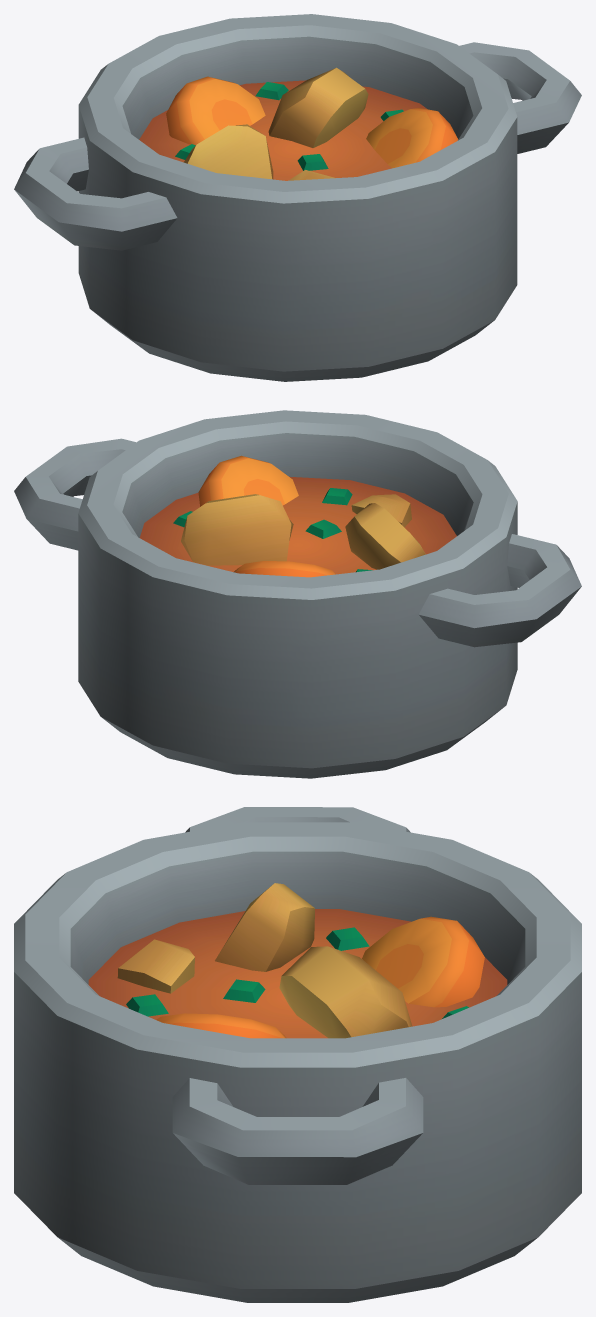
The model's file is kaykit-restaurant-bits-pot-a-stew.glb.
3 renders of one model, top to bottom at view 1: azimuth 30°, elevation 25°; view 2: azimuth 150°, elevation 25°; view 3: azimuth 270°, elevation 25°, orthographic. The views are drawn at different scales.
Visible parts, largest first — view 1: pot_A_stew; view 2: pot_A_stew; view 3: pot_A_stew.
Part boxes in pixels (x1,y1,x2,y2): pot_A_stew: (14,14,581,381); pot_A_stew: (14,410,581,778); pot_A_stew: (14,807,581,1302).
Size of the model in its own units: 1.4 by 0.516 by 1.
1 material, 1 textured.
